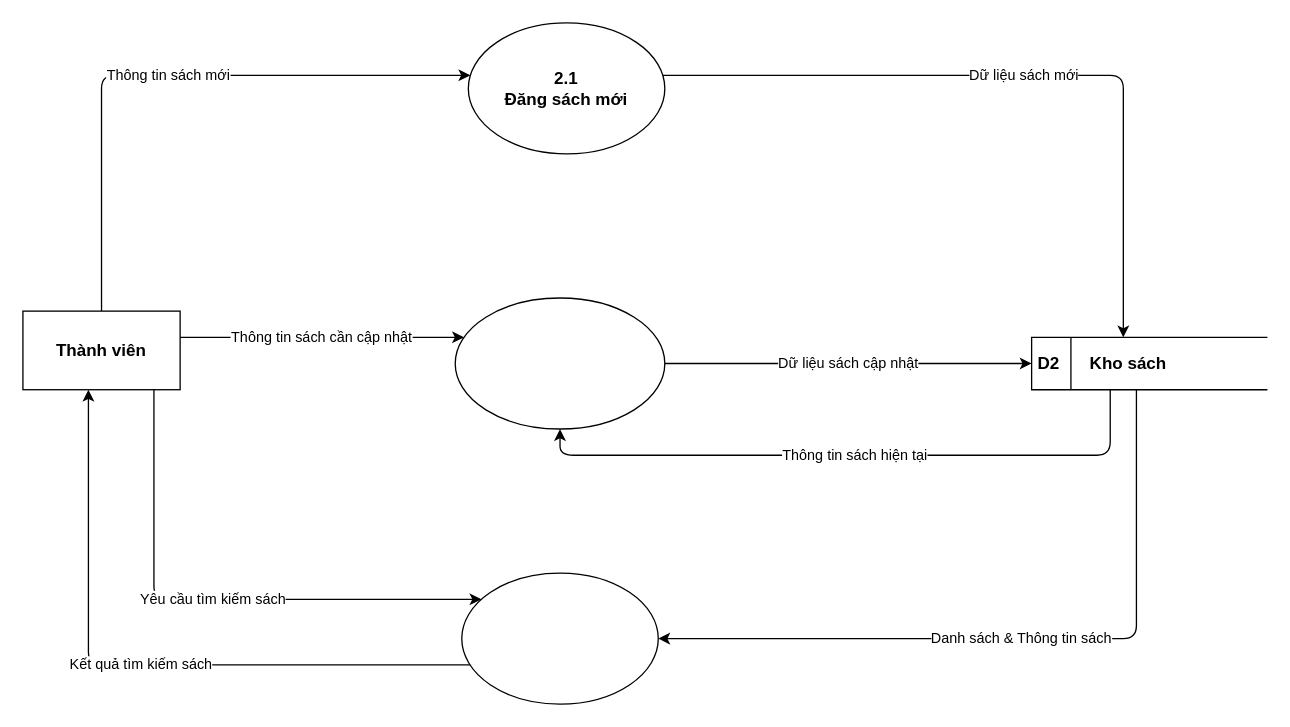
Image size: 1290x727. Some labels were removed from this diagram. The centre of each missing label's shape, as x and y in pixels:
2.2 Cập nhật thông tin sách: point 559,363
2.3 Tìm kiếm sách: point 559,638
